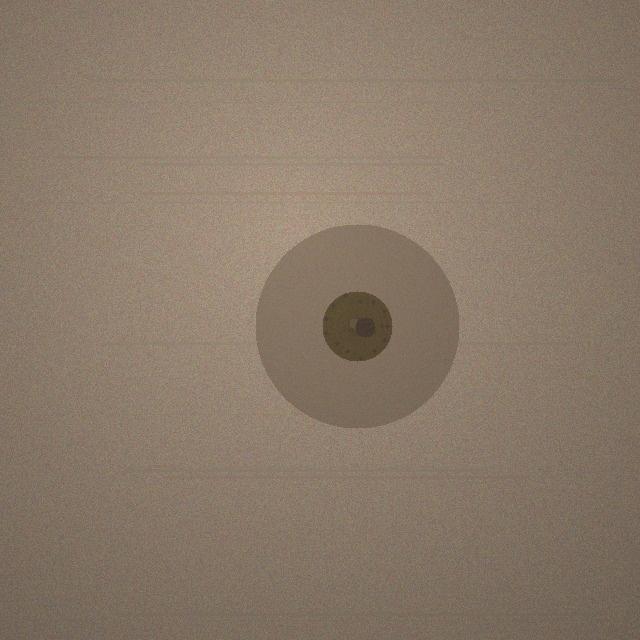cold_weld: (255, 224, 459, 428)
